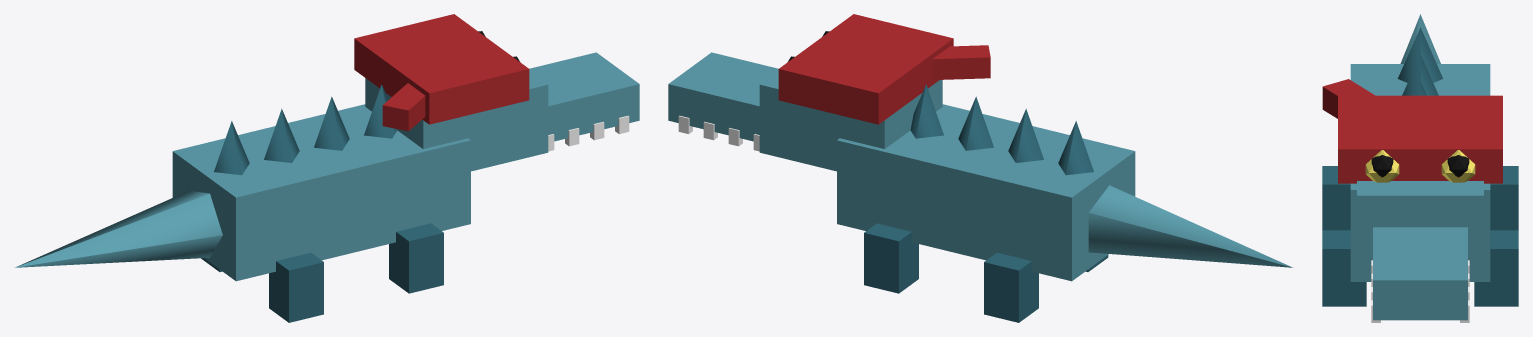
Rendered from level3.glb.
The picture shows the model from 3 angles, left to right: view 1: azimuth 30°, elevation 25°; view 2: azimuth 150°, elevation 25°; view 3: azimuth 270°, elevation 25°; orthographic projection. The views are drawn at different scales.
Bounding box in the file's own units: 1.47 × 0.4392 × 0.3782.
